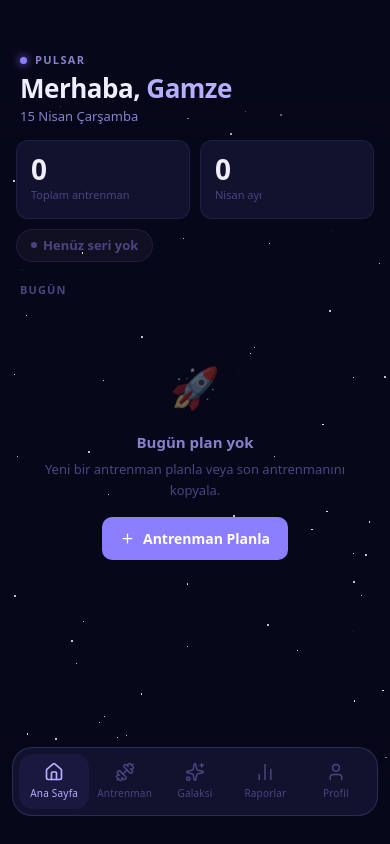
Test: Antrenman Düzenle & Sil Akışı › Antrenman tabına tıklanınca workout listesi görünür
The image size is (390, 844).
What coordinates should you click on to do the following:
click the button with test id "tab-workout"
I would click on:
 (124, 782)
Its box is [89,754,159,809].
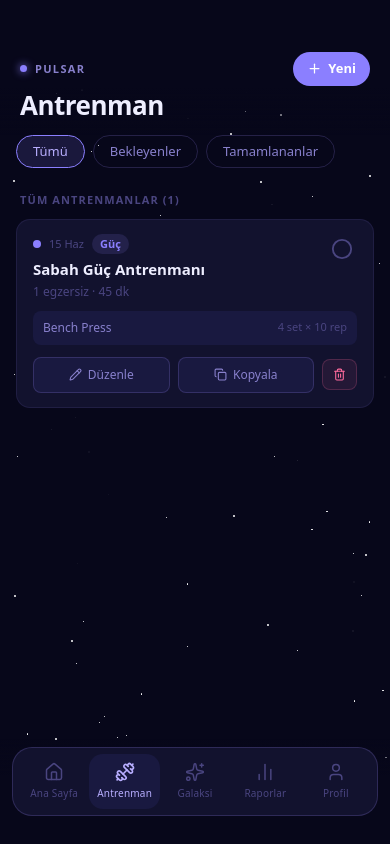
Expected: the heading "Antrenman" is shown, [20,86,164,122]
Expected: the text "Sabah Güç Antrenmanı" is shown, [33,259,205,279]
Expected: the number of elements with test id "workout-card" is 1, [16,219,374,408]
